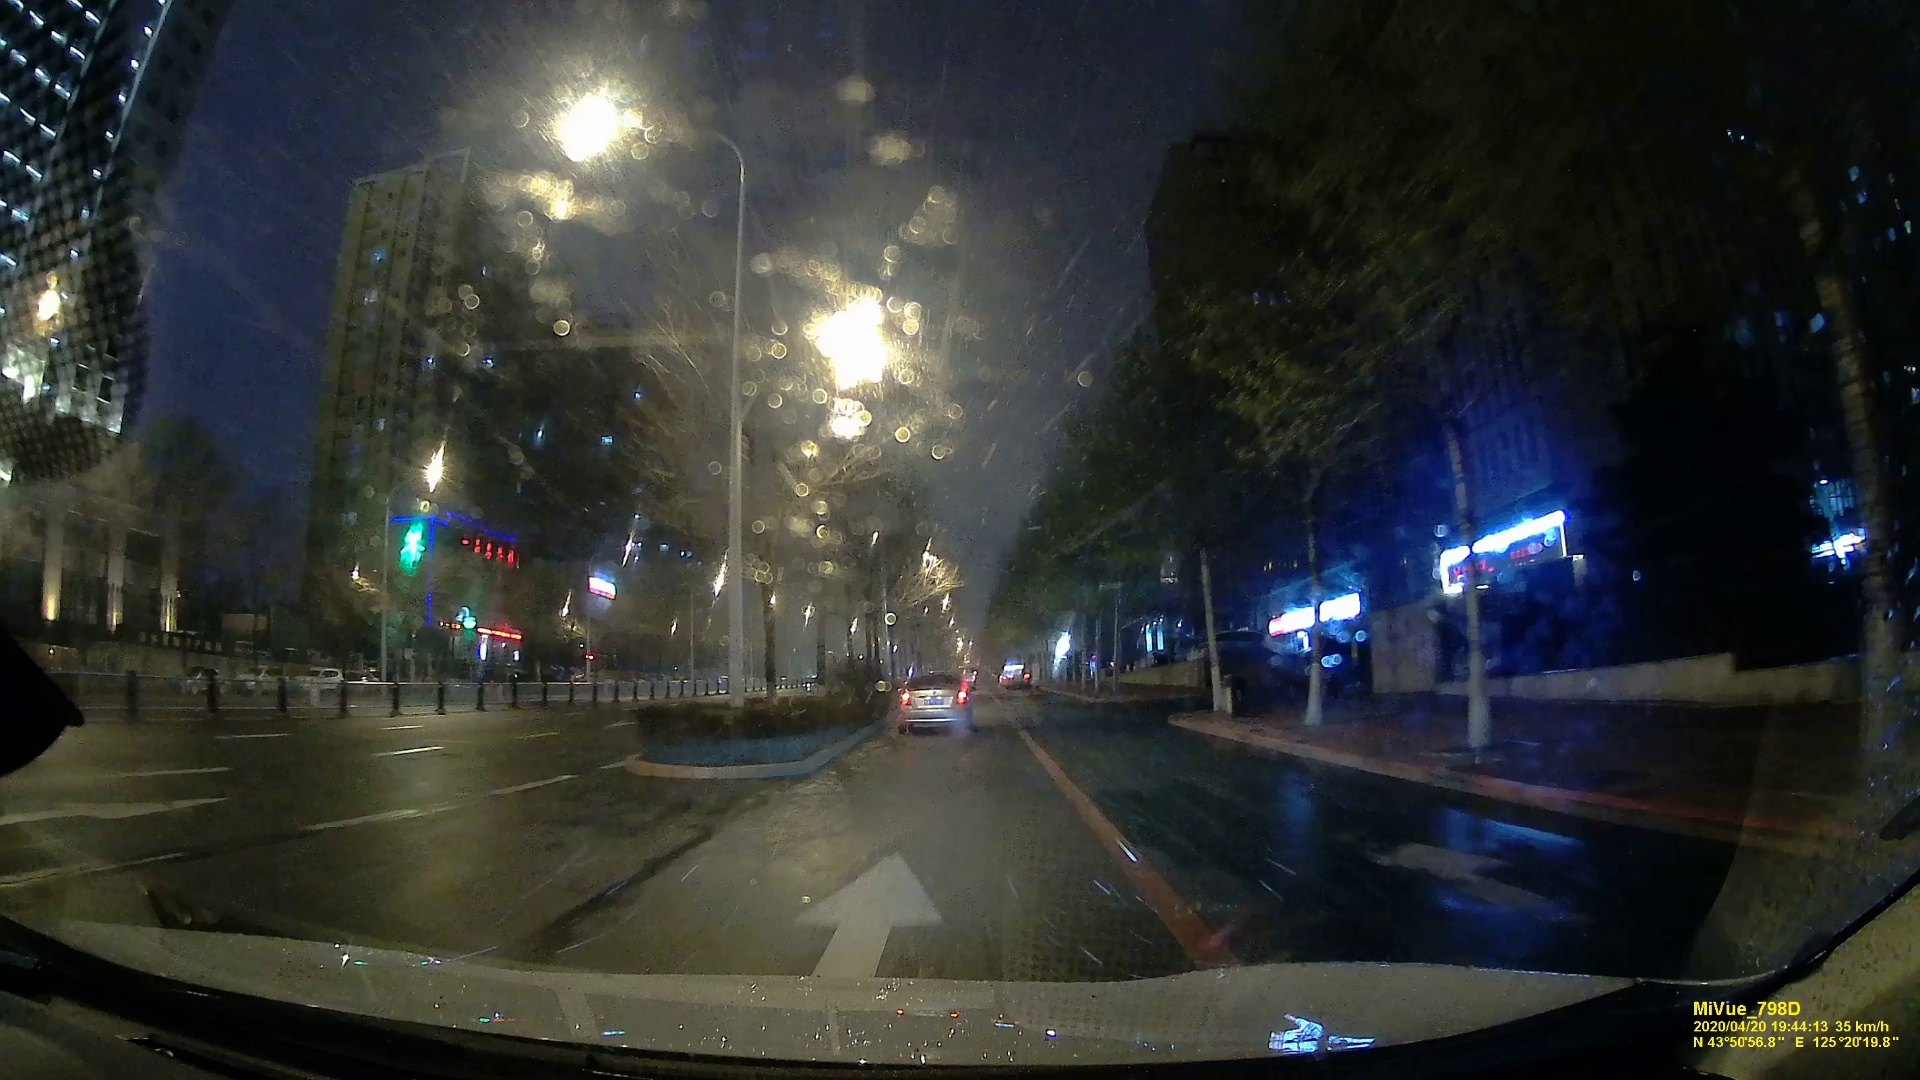vehicle: (899, 666, 969, 731)
